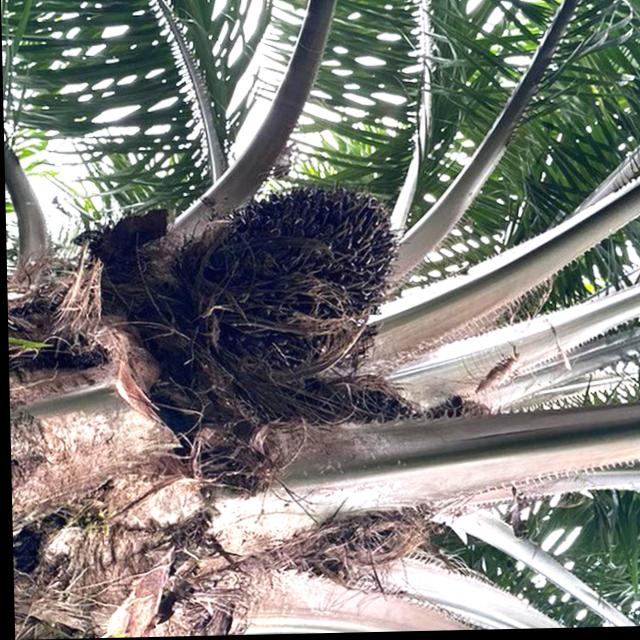ripe: (164, 169, 415, 403)
